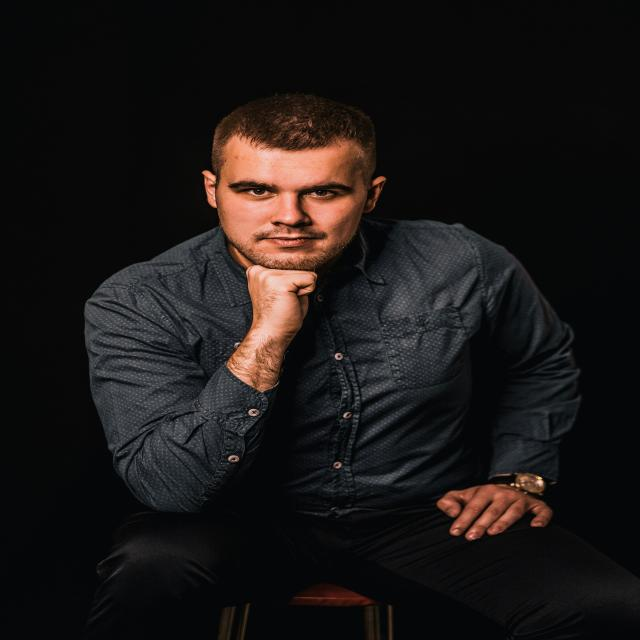human: (75, 88, 600, 640)
